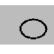no answer: (15, 15, 49, 41)
